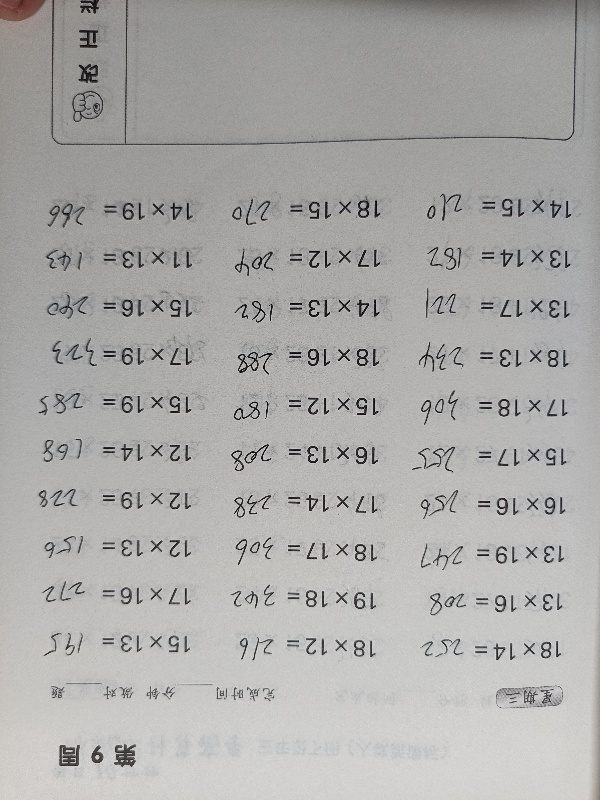equation: (21, 330, 201, 374), (208, 191, 388, 229), (391, 585, 571, 623), (390, 632, 570, 667), (400, 192, 580, 226), (21, 194, 201, 228), (400, 242, 580, 276), (20, 291, 200, 325), (209, 292, 389, 326), (398, 292, 578, 326), (397, 341, 577, 375), (205, 583, 385, 617), (20, 243, 200, 276), (210, 243, 390, 276), (208, 341, 388, 374), (19, 388, 199, 421), (210, 390, 390, 423), (395, 391, 575, 424), (207, 439, 387, 472), (395, 441, 575, 474), (19, 484, 199, 517), (206, 488, 386, 521), (395, 490, 575, 523), (21, 532, 201, 565), (206, 536, 386, 569), (392, 538, 572, 571), (19, 579, 199, 612), (18, 627, 198, 660), (205, 631, 385, 664), (20, 437, 200, 469)
